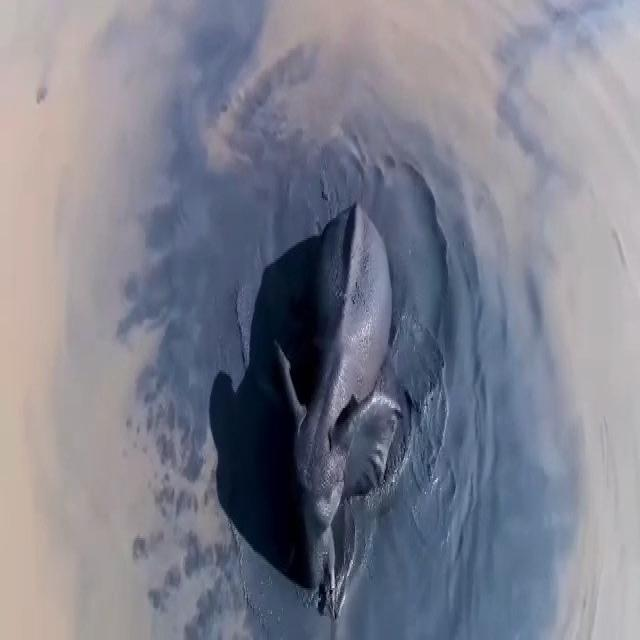Elephant: (271, 182, 419, 622)
